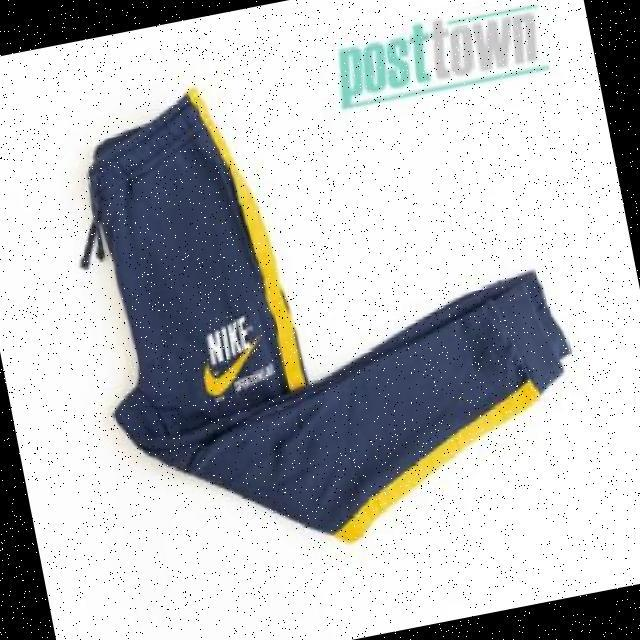Nike: (190, 309, 265, 394)
